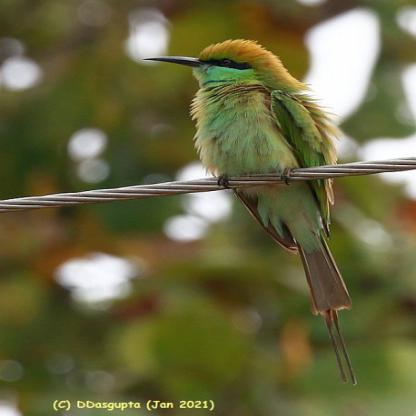Burung: (142, 38, 358, 386)
